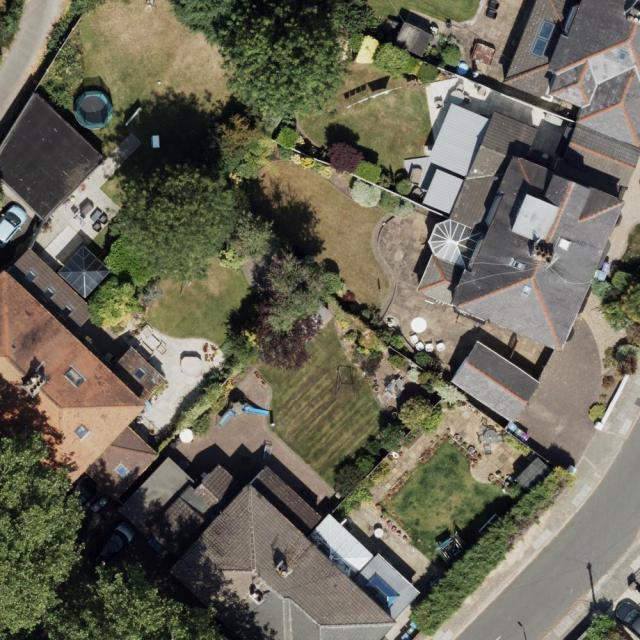roof: (416, 0, 640, 355), (118, 457, 421, 640), (0, 247, 168, 504), (0, 90, 108, 224), (450, 342, 541, 424)
skylight: (362, 573, 399, 613), (530, 18, 556, 59), (62, 366, 86, 389), (113, 460, 131, 480), (131, 365, 148, 383), (555, 235, 573, 252), (74, 422, 90, 440), (57, 304, 73, 320), (509, 257, 524, 274), (517, 282, 532, 299)
